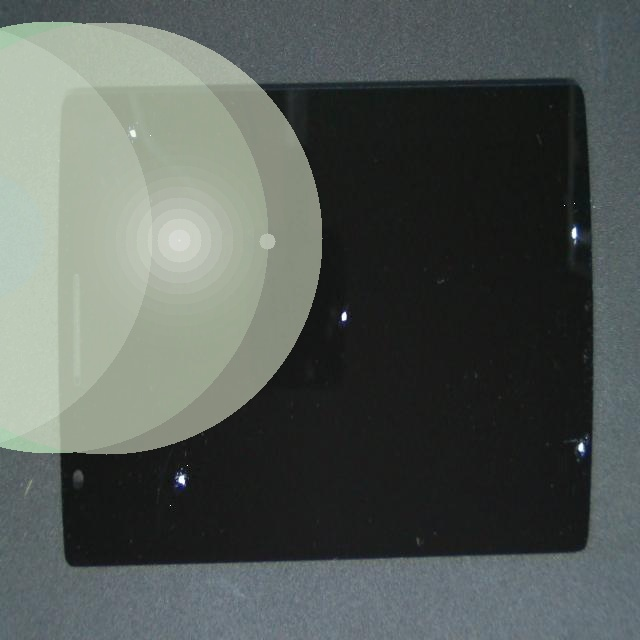stain: (273, 226, 640, 640), (173, 186, 520, 559), (289, 69, 640, 322), (55, 235, 268, 640), (54, 42, 183, 203)
